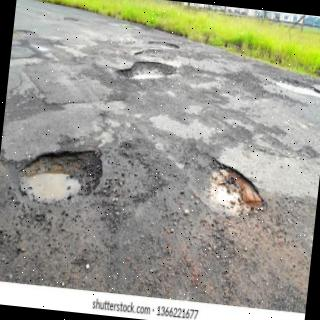pothole: (6, 150, 101, 204), (205, 163, 265, 215), (116, 61, 175, 79), (275, 82, 320, 97), (133, 50, 172, 58), (148, 41, 179, 47)
